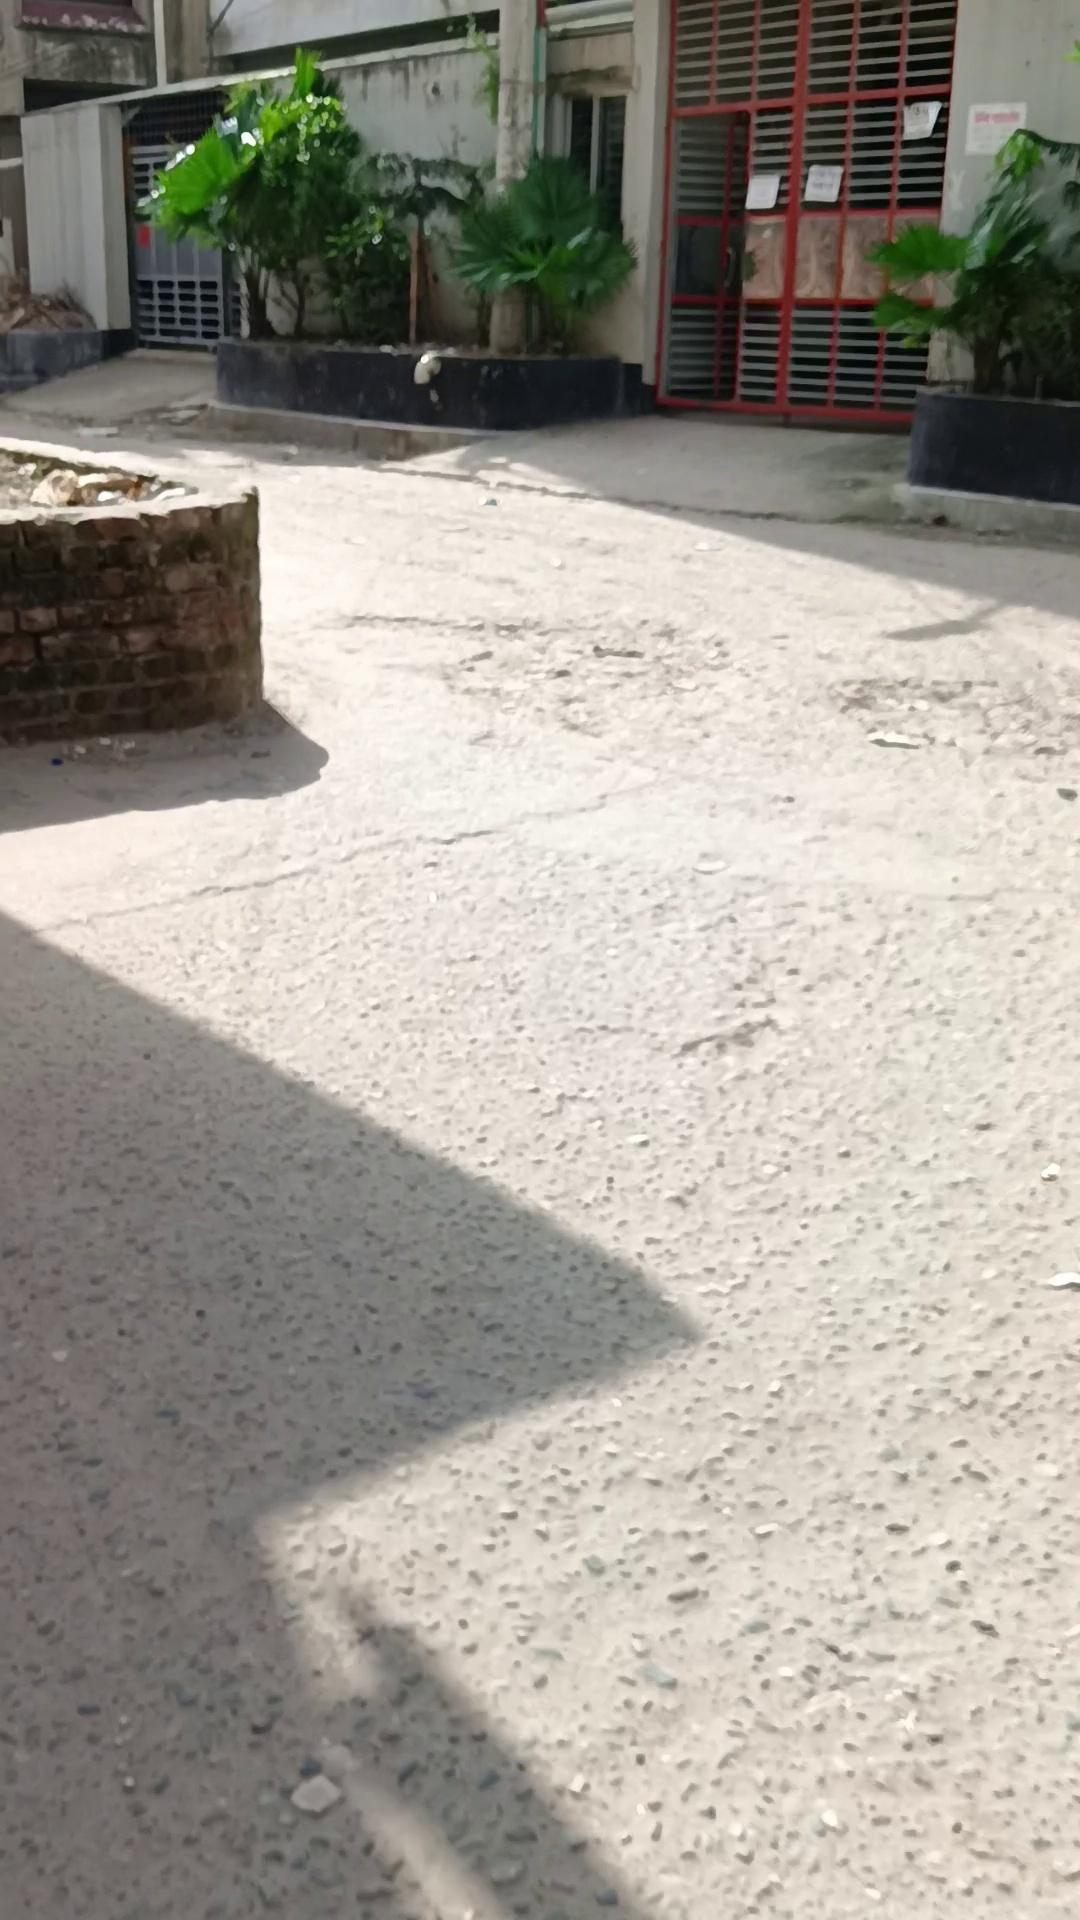Crosswalk: (210, 334, 650, 433)
Pole: (862, 125, 1079, 509)
Tree: (1, 473, 264, 746)
